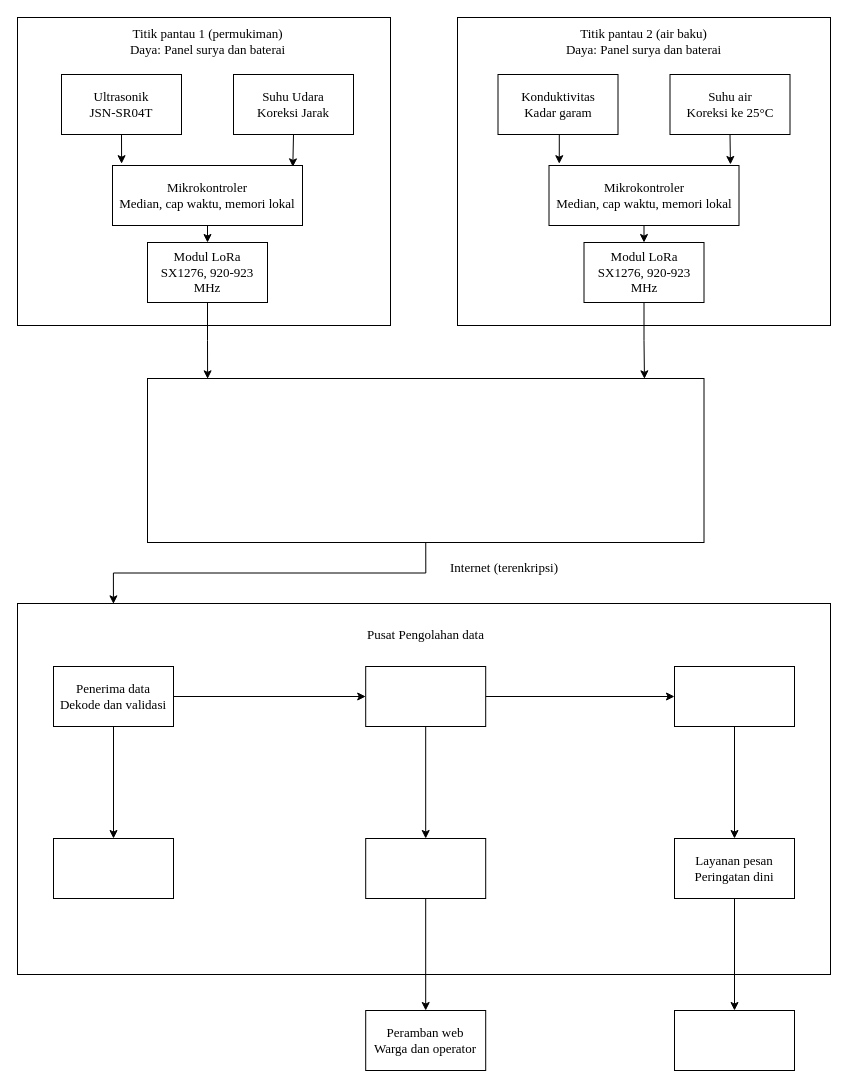
Image size: 848x1088. Some labels were removed from this diagram. The centre of each missing label's shape, as x and y in pixels:
"Basis data Riwayat pengukuran" belongs at pixel 425 696.
"Gerbang LoRa LoRaWAN, AES-128, di fasilitas Perumdam" belongs at pixel 425 460.
"Halaman informasi Berbasis web" belongs at pixel 425 868.
"Pemantau gerbang Notifikasi data hilang" belongs at pixel 113 868.
"Penilai status Ambang batas" belongs at pixel 734 696.
"Ponsel terdaftar Warga dan Operator" belongs at pixel 734 1040.
